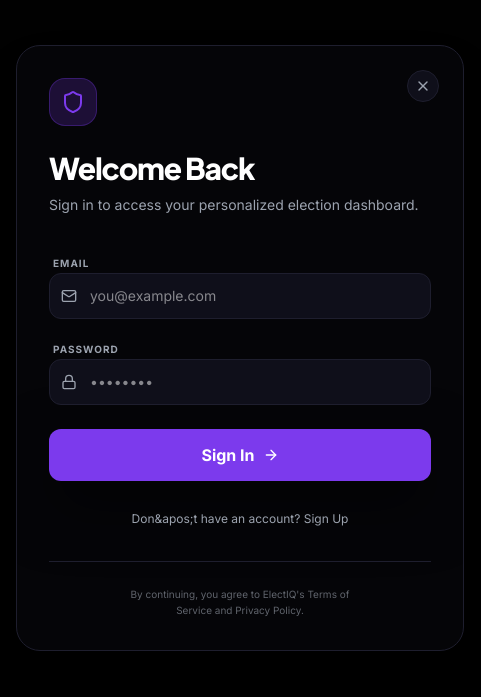
Test case: AuthModal Component › shows error when fields are empty
The image size is (481, 697).
Click the button "Sign In" at (240, 455), box [49,429,431,481]
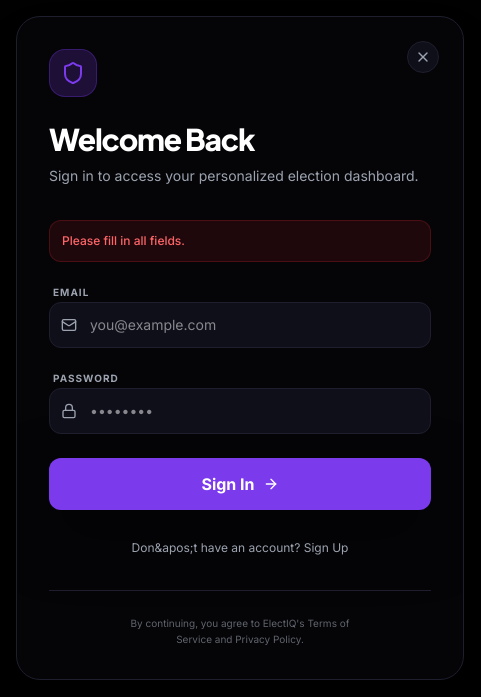
Expected: the text "Please fill in all fields." is shown, [49,220,431,262]
